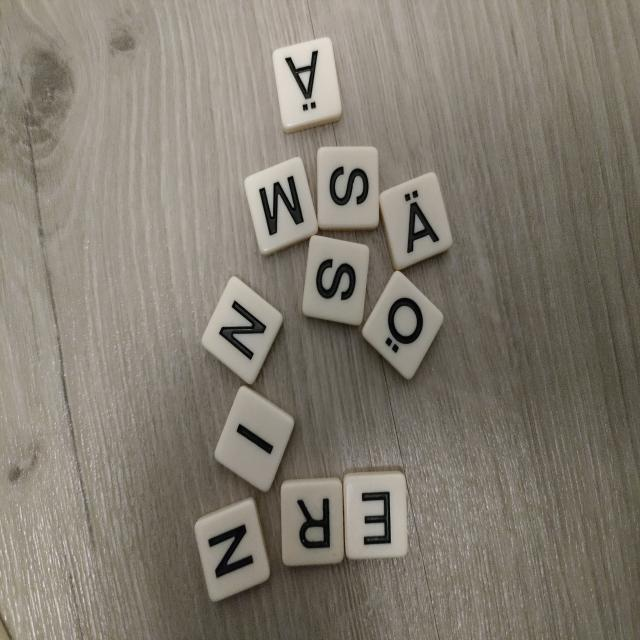a_dot: (379, 171, 454, 272), (272, 36, 345, 135)
e: (343, 471, 408, 559)
i: (213, 382, 299, 495)
m: (243, 154, 320, 258)
n: (201, 275, 286, 387), (193, 496, 273, 605)
o_dot: (360, 270, 447, 383)
r: (281, 478, 344, 565)
s: (301, 235, 372, 328), (316, 147, 379, 231)
